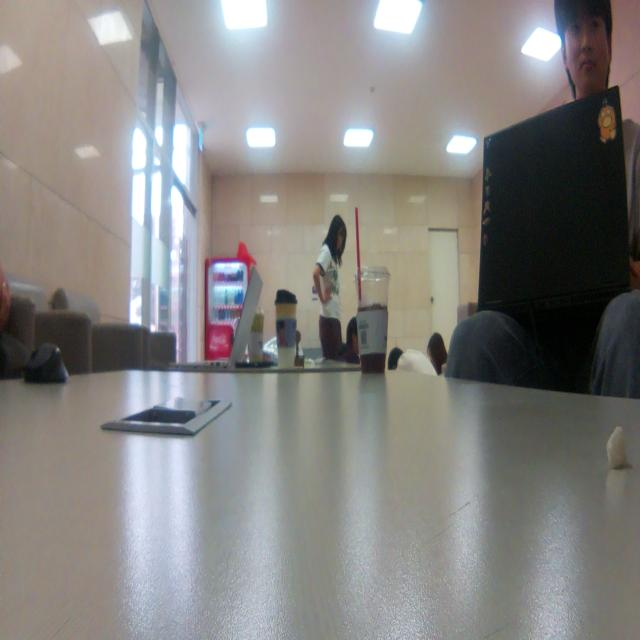target: (294, 327, 306, 373)
